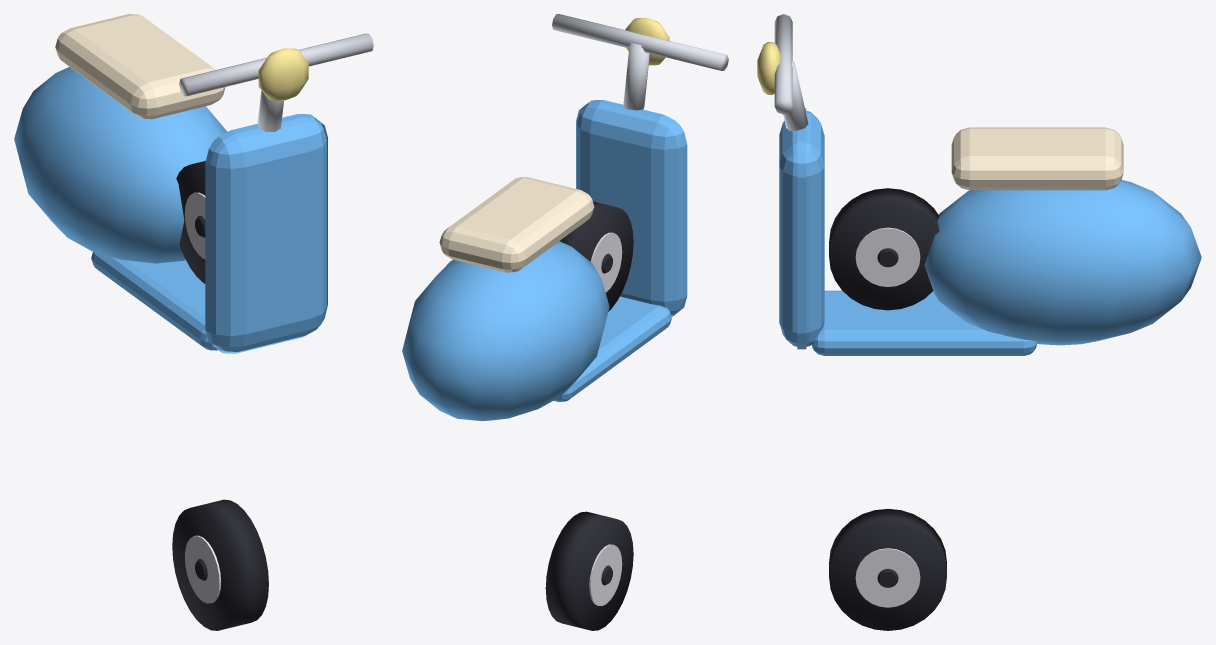
Rendered from Car_Vespino.fbx.
The picture shows the model from 3 angles, left to right: view 1: azimuth 30°, elevation 25°; view 2: azimuth 150°, elevation 25°; view 3: azimuth 270°, elevation 25°; orthographic projection. The views are drawn at different scales.
Parts seen in each view (by area): view 1: Car_Vespino, Wheel_F, Wheel_R; view 2: Car_Vespino, Wheel_F, Wheel_R; view 3: Car_Vespino, Wheel_F, Wheel_R.
Boxes of the visible parts, box(x1,y1,x2,y2) form: Car_Vespino: box(14, 14, 373, 353); Wheel_F: box(172, 499, 268, 630); Wheel_R: box(176, 161, 205, 283); Car_Vespino: box(402, 14, 728, 420); Wheel_F: box(545, 511, 633, 630); Wheel_R: box(559, 201, 633, 311); Car_Vespino: box(757, 14, 1201, 355); Wheel_F: box(829, 509, 946, 630); Wheel_R: box(829, 188, 939, 310).
Bounding box in the file's own units: 0.44 × 1.41 × 0.9805.
